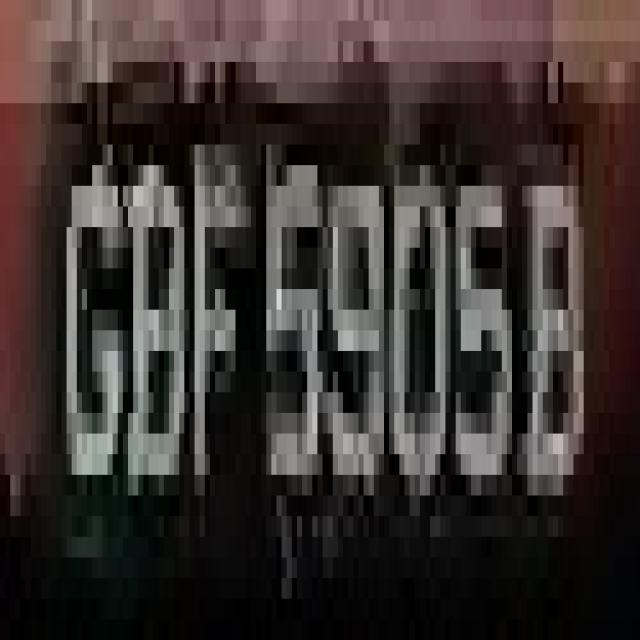0: (384, 103, 451, 475)
5: (446, 124, 517, 537), (256, 124, 317, 516)
9: (323, 165, 394, 516)
B: (123, 144, 189, 537), (527, 165, 594, 516)
F: (194, 103, 251, 496)
G: (51, 144, 128, 475)
